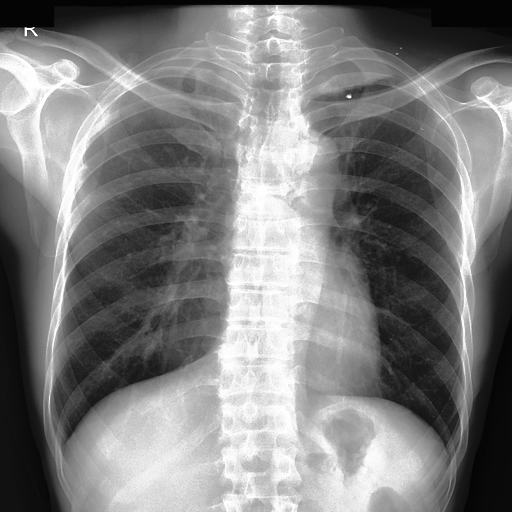Calcification: (306, 58, 418, 97), (119, 60, 243, 90)
Consolidation: (268, 128, 340, 202)
Other lesion: (346, 91, 354, 99)
Pulmonary fibrosis: (346, 91, 354, 99)
